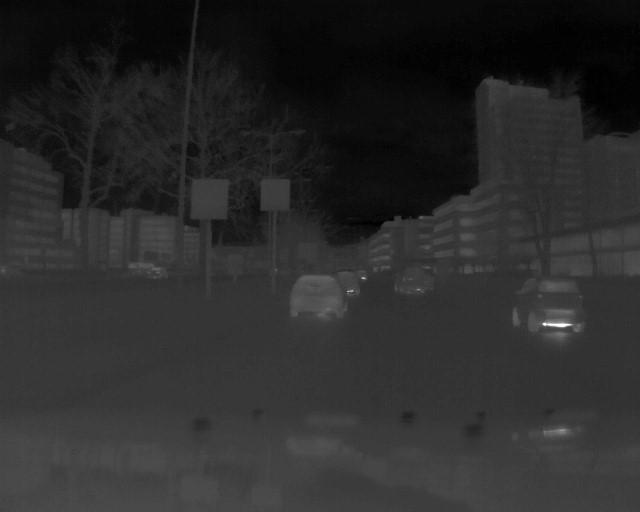car: (511, 277, 588, 335), (288, 273, 349, 321), (391, 266, 432, 294)
